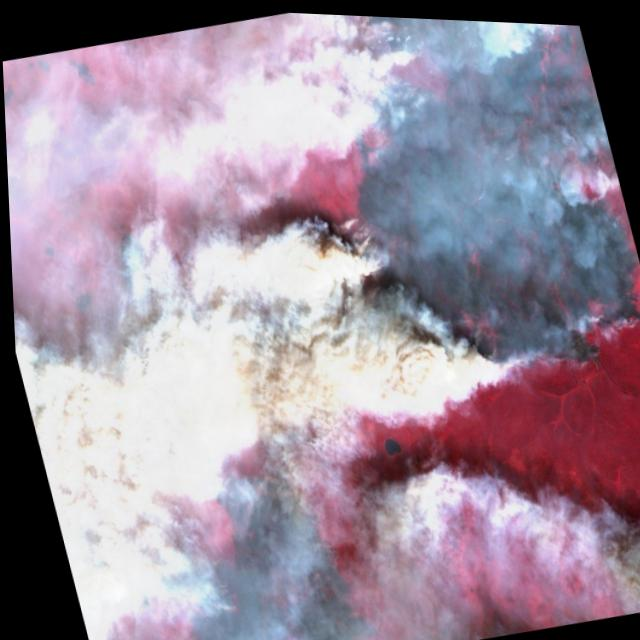fire: (486, 319, 602, 394), (565, 271, 640, 352), (336, 203, 391, 276), (537, 19, 581, 37)
